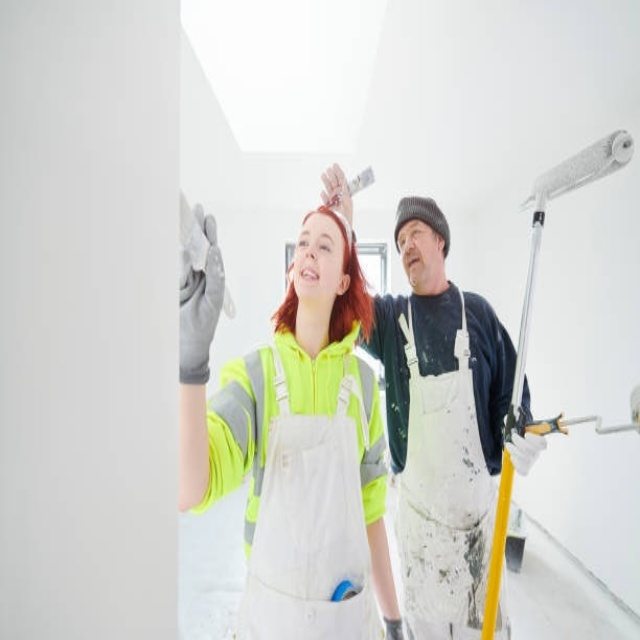Guantes: (182, 179, 228, 387), (319, 157, 357, 227), (503, 424, 549, 477)
Sin_gafas: (294, 227, 340, 257), (395, 220, 425, 253)
Sin_mascara: (295, 262, 323, 293), (405, 249, 431, 281)
